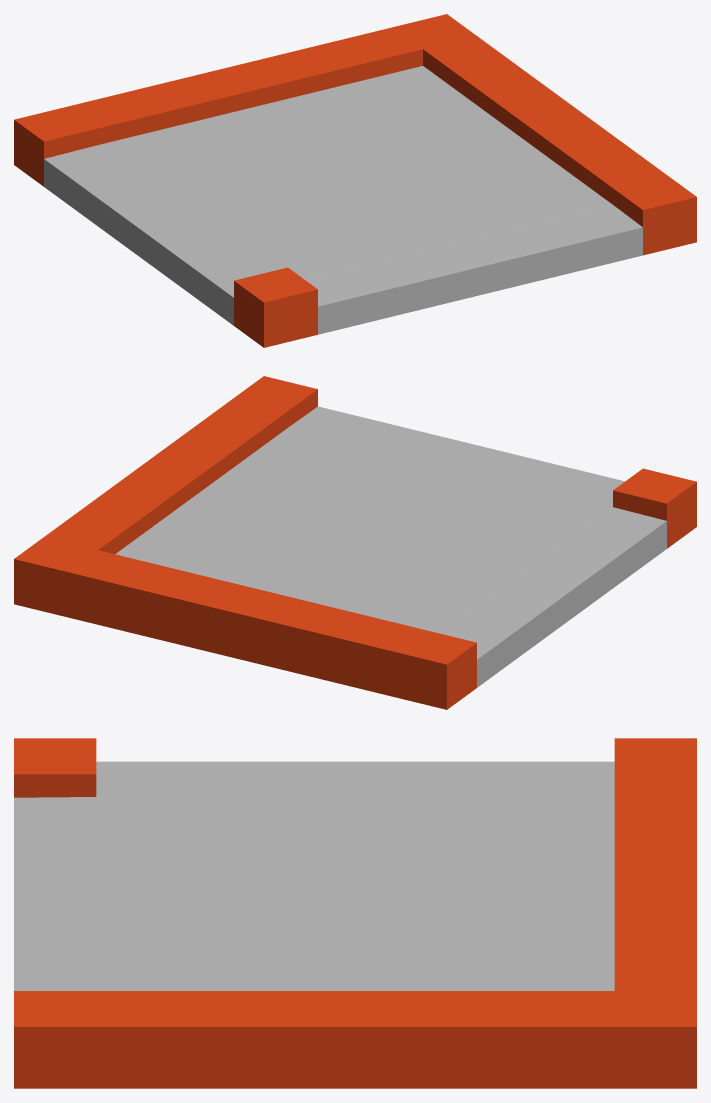
Rendered from red_corner.fbx.
The picture shows the model from 3 angles, top to bottom: view 1: azimuth 30°, elevation 25°; view 2: azimuth 150°, elevation 25°; view 3: azimuth 270°, elevation 25°; orthographic projection. The views are drawn at different scales.
Parts seen in each view (by area): view 1: Red_corner; view 2: Red_corner; view 3: Red_corner.
Part boxes in pixels (box(x1,y1,x2,y2)): Red_corner: box(14, 14, 696, 347); Red_corner: box(14, 376, 696, 709); Red_corner: box(14, 738, 696, 1088).
Bounding box in the file's own units: 1 × 0.1 × 1.
1 material, 1 textured.
